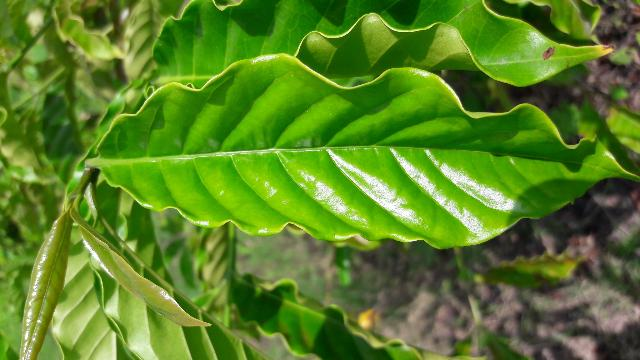healthy: (98, 57, 614, 238)
